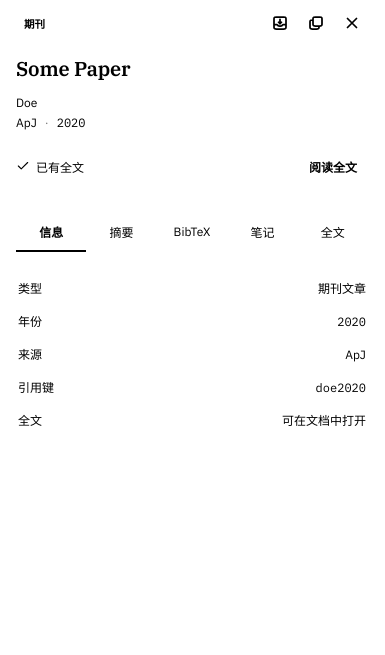
RefDetail upload tracking › a failed main-doc switch surfaces an error and does not reload
This screenshot has width=385, height=655.
Click the tab "全文": (333, 233) [298,214,368,252]
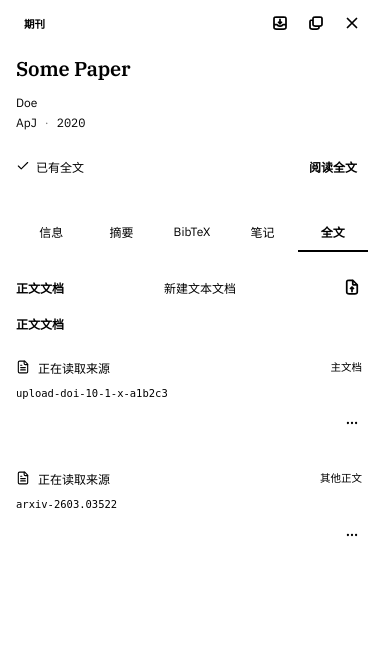
Click the heading named "文档操作" below "arxiv-2603.03522": (352, 534) [345,528,359,542]
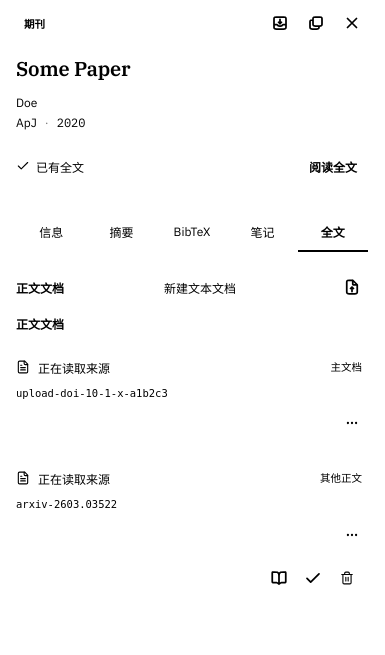
Click the button named "设为主文档": (313, 578) [297,562,329,594]
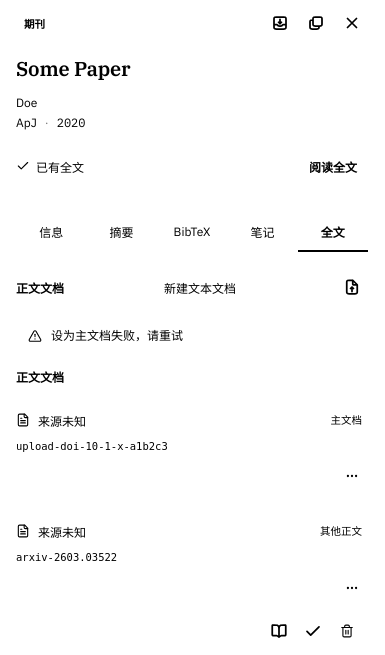
Check: the text "设为主文档失败，请重试" is shown, box [51,326,183,345]
